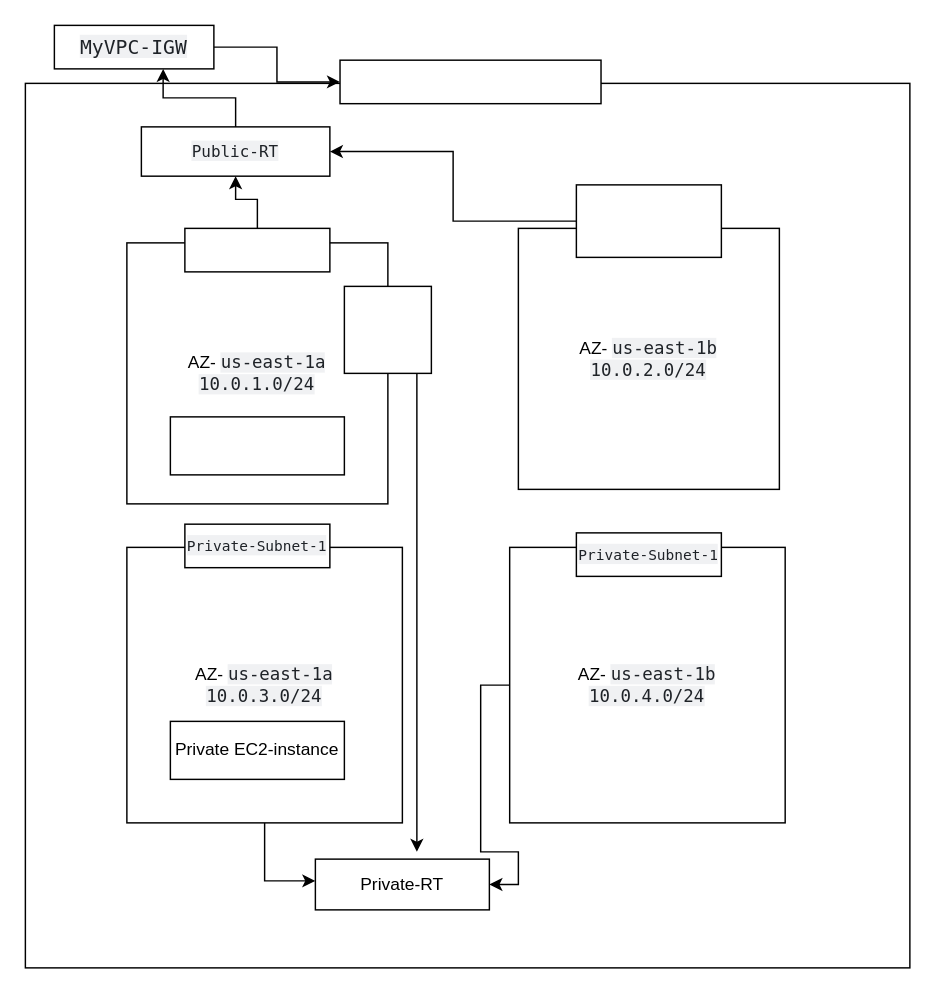
Image size: 935x993. Some labels were removed from this diagram. The shapes that lost their labels are listed below. From the top down, each one's centre as x and y in pixels, then its label:
At point 470,81: "MyVPC 10.0.0.0/16".
At point 648,220: "Public-Subnet-2".
At point 256,249: "Public-Subnet-1".
At point 387,329: "MyVPC-NAT".
At point 256,445: "Bastion Host".
